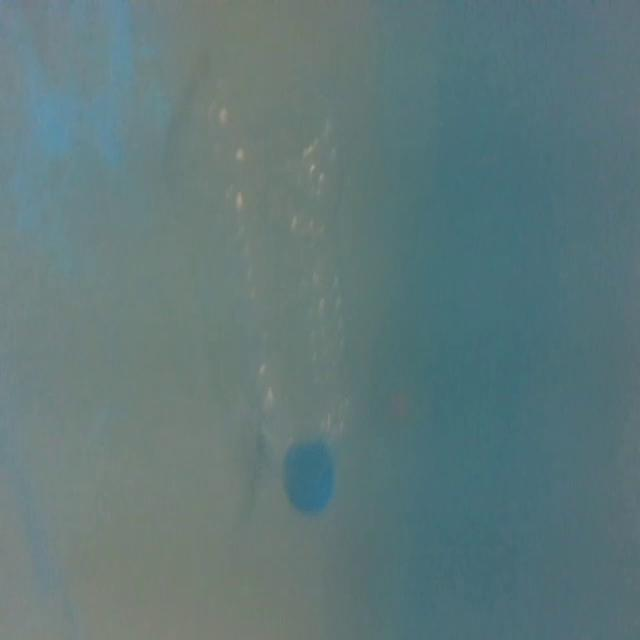plastic bottle: (184, 50, 362, 520)
